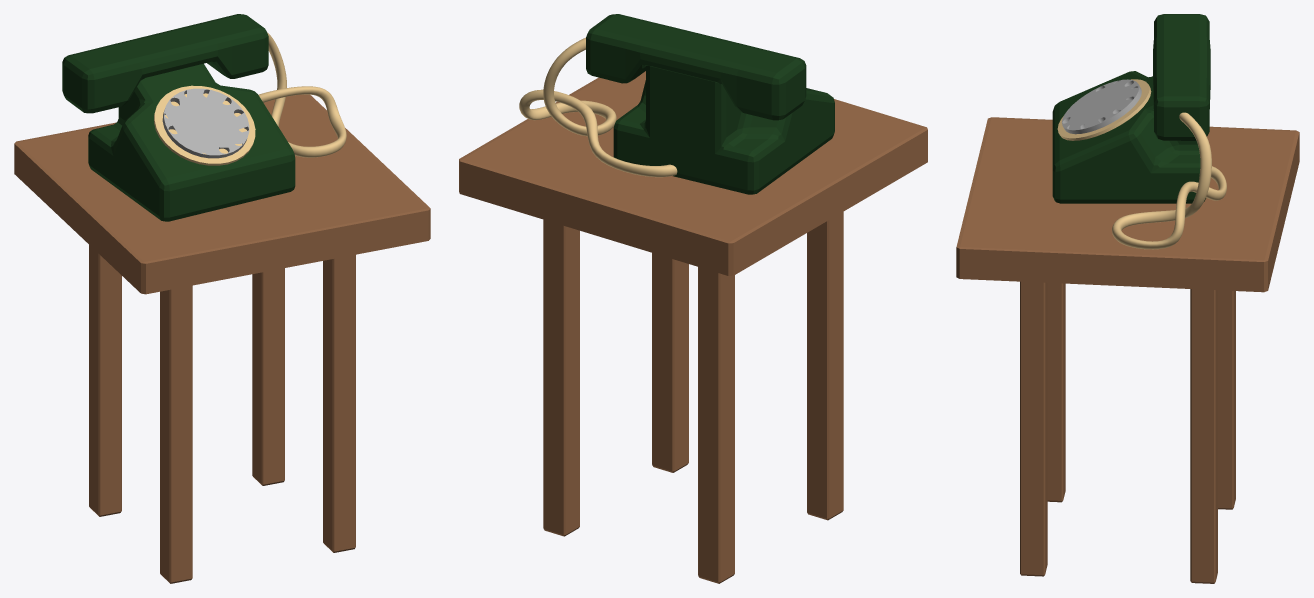
Rendered from phone.fbx.
3 renders of one model, left to right at view 1: azimuth 30°, elevation 25°; view 2: azimuth 150°, elevation 25°; view 3: azimuth 270°, elevation 25°, orthographic. The views are drawn at different scales.
Visible parts, largest first — view 1: table_top, table_legs, base_station, phone, dial.001, wire, dial; view 2: table_legs, table_top, base_station, phone, wire; view 3: table_top, table_legs, base_station, phone, wire, dial.001, dial.
Part boxes in pixels (box(x1,y1,x2,y2)): table_top: box(14, 94, 430, 294); table_legs: box(89, 245, 355, 583); base_station: box(88, 63, 295, 221); phone: box(62, 14, 268, 113); dial.001: box(162, 88, 249, 158); wire: box(258, 32, 346, 157); dial: box(154, 85, 255, 165); table_legs: box(543, 211, 843, 583); table_top: box(459, 71, 927, 275); base_station: box(613, 65, 834, 194); phone: box(586, 14, 806, 120); wire: box(519, 37, 677, 177); table_top: box(956, 117, 1299, 292); table_legs: box(1020, 281, 1235, 583); base_station: box(1052, 71, 1205, 203); phone: box(1153, 14, 1210, 140); wire: box(1112, 112, 1226, 249); dial.001: box(1062, 79, 1141, 134); dial: box(1057, 79, 1151, 140).
Bounding box in the file's own units: 178 × 268 × 178.
